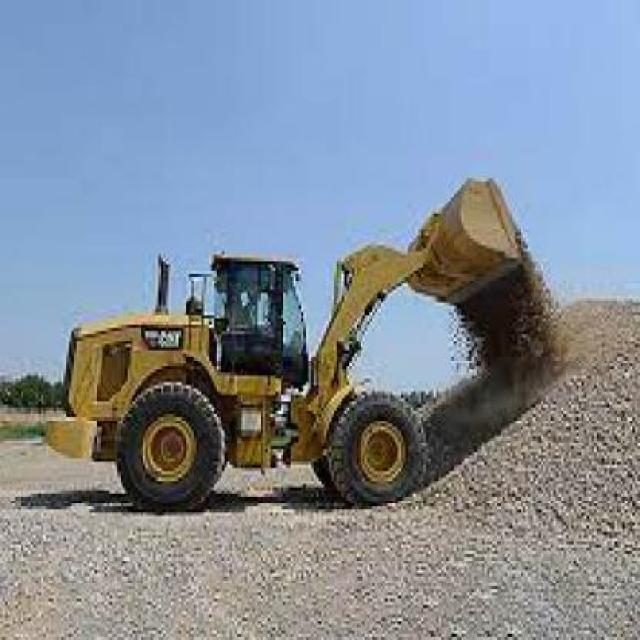buldozerpayloadergrader: (31, 232, 443, 510)
